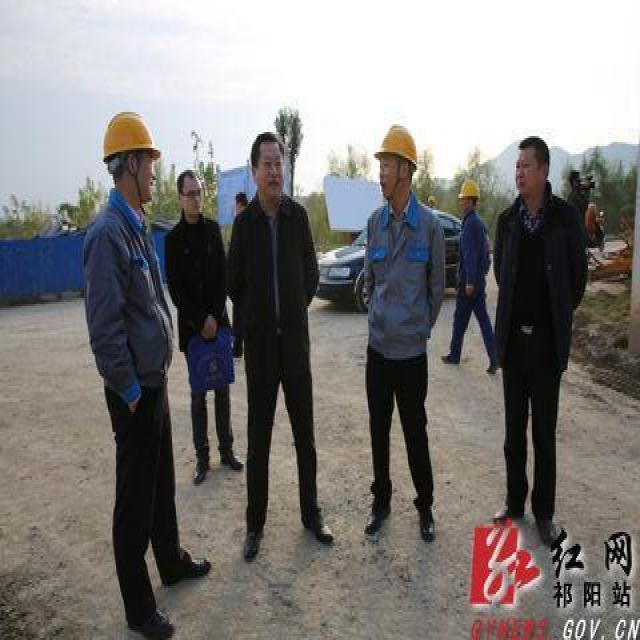helmet: (95, 98, 165, 210), (369, 112, 424, 214), (455, 172, 481, 216)
no-helmet: (249, 120, 291, 212), (509, 132, 555, 202), (173, 158, 211, 236)
